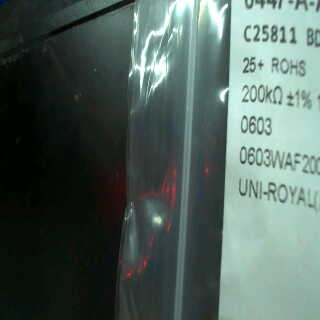200kR: (240, 79, 285, 110)
